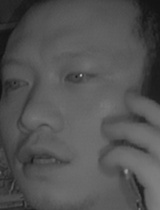eye: (63, 66, 97, 89), (3, 73, 31, 92)
mouth: (15, 137, 72, 180)
